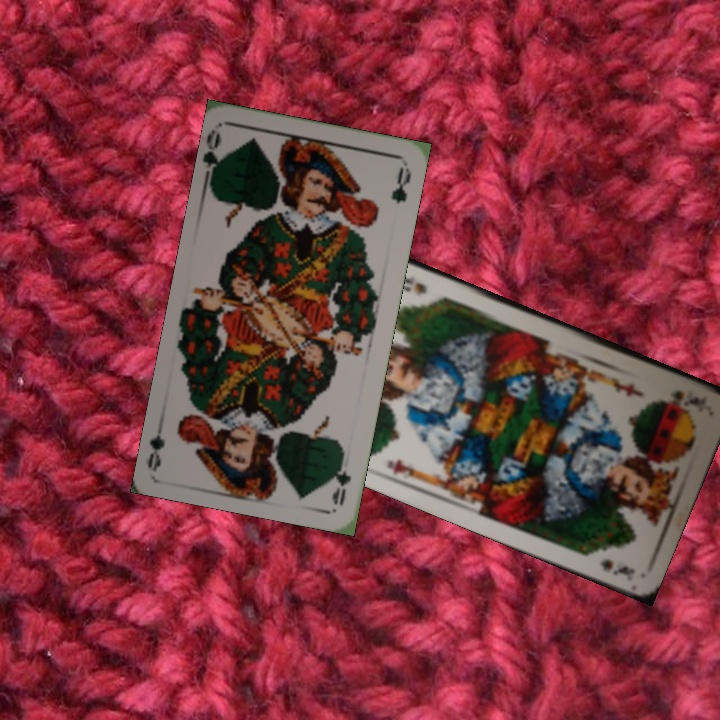GO: (199, 126, 232, 185), (328, 447, 354, 507)
SK: (666, 386, 702, 408)
